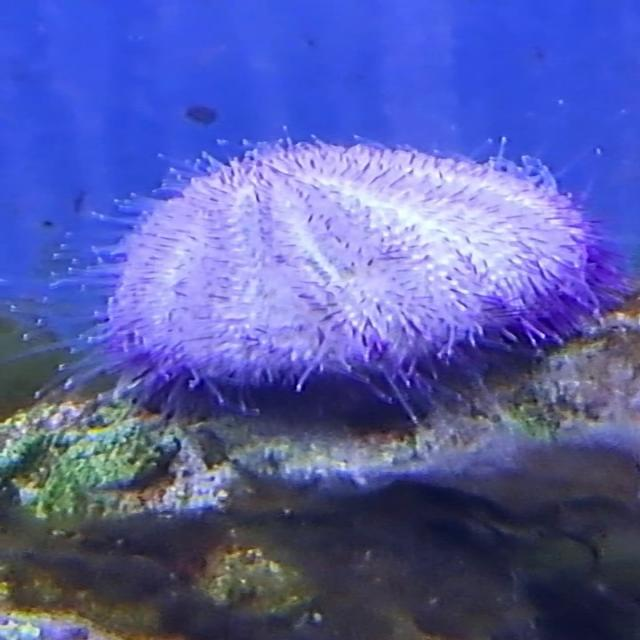Deniz Kestanesi: (42, 115, 640, 427)
